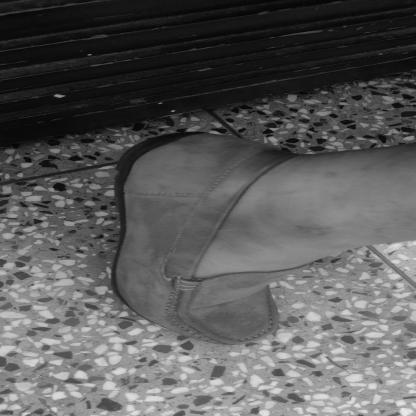ankle: (226, 203, 238, 209)
heel: (204, 136, 212, 140)
pinky: (192, 326, 200, 329)
right_foot: (113, 132, 306, 347)
toe: (267, 307, 275, 311)
